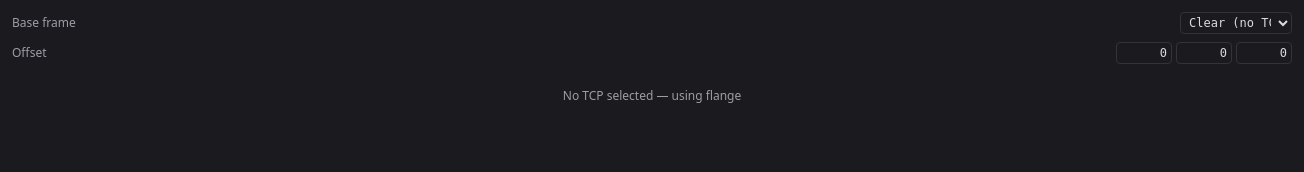
Test: TcpPanel — frame selector + offset inputs + resolved pose (tcp-resolved-pose R2/R3) › posts selectToolFrame(2, [0,0,0.1]) when frame 2 is selected after offset Z 0.1 (R2.1)
The image size is (1304, 172).
Replace the text in the number field named "Offset Z" with "0.1": coordinates (1264, 53) [1236,42,1292,64]
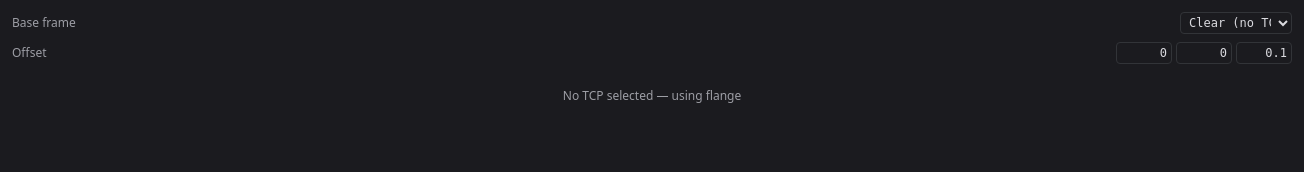
Select "#2" in the dropdown named "TCP base frame": coordinates (1236, 23) [1180,12,1292,34]
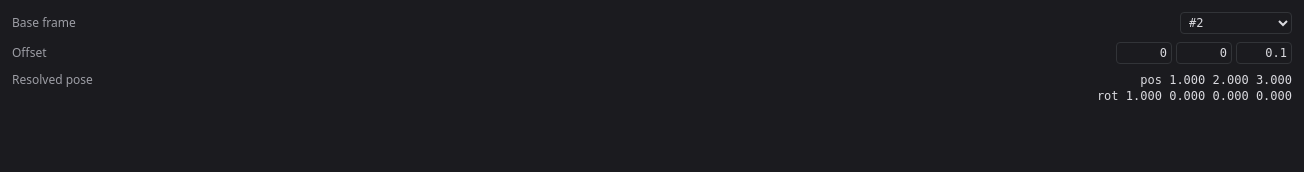
Expected: the element with test id "tcp-resolved-pose" shows "1.000", [1169,73,1205,87]
Expected: the element with test id "tcp-resolved-pose" shows "3.000", [1256,73,1292,87]
